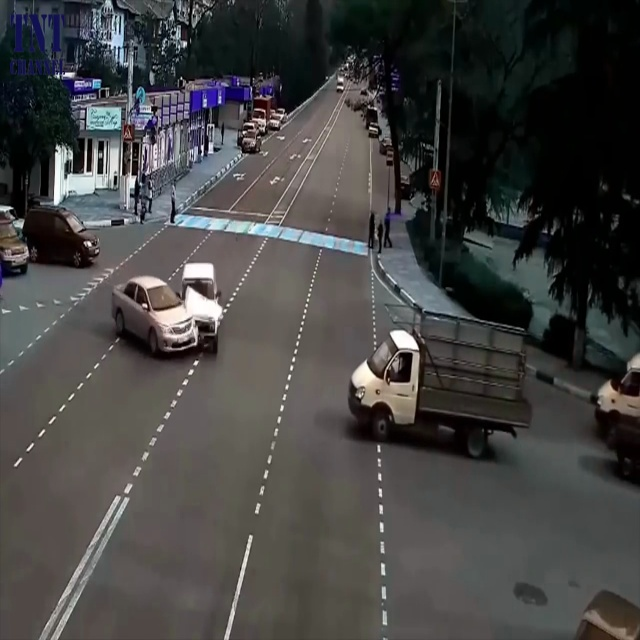acc: (109, 250, 228, 368)
